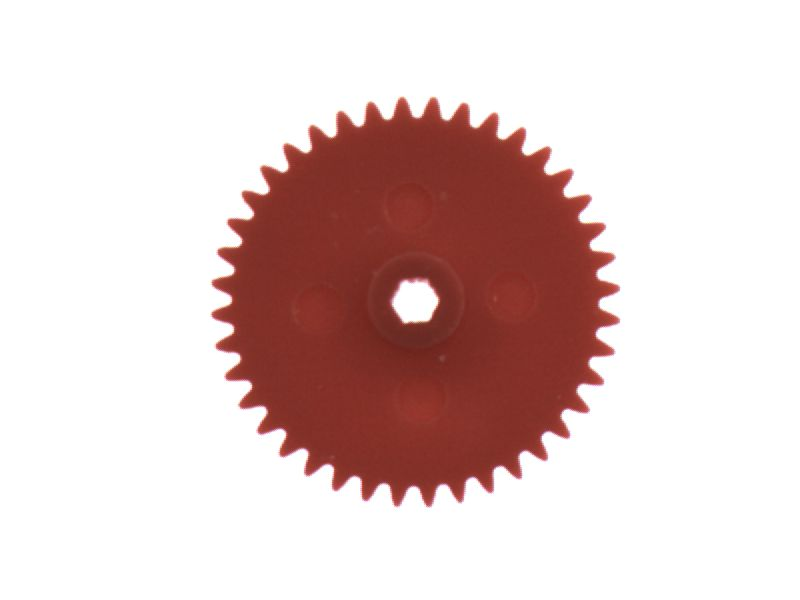good_product: (196, 88, 634, 515)
